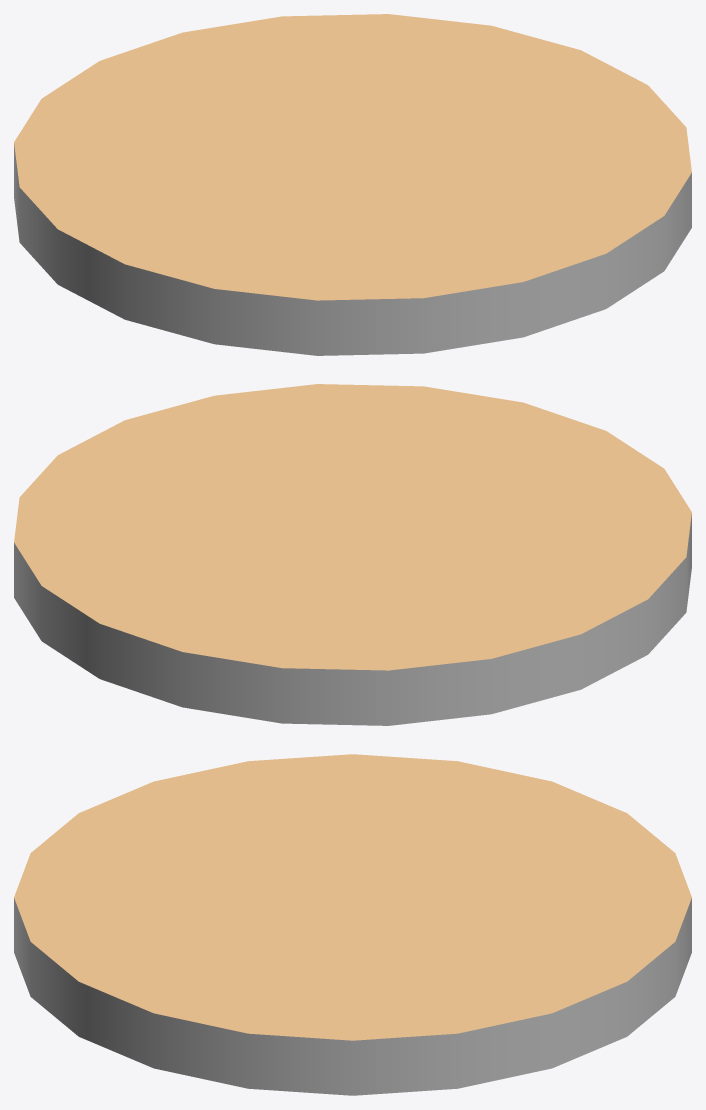
File: coin.glb
3 views of the same model, one above another, from view 1: azimuth 30°, elevation 25°; view 2: azimuth 150°, elevation 25°; view 3: azimuth 270°, elevation 25° (orthographic).
Parts seen in each view (by area): view 1: Cylinder001, Object001_Material #26_0; view 2: Cylinder001, Object001_Material #26_0; view 3: Cylinder001, Object001_Material #26_0.
Boxes of the visible parts, bbox=[...] form: Cylinder001: bbox=[14, 14, 691, 300]; Object001_Material #26_0: bbox=[14, 144, 691, 355]; Cylinder001: bbox=[14, 384, 691, 670]; Object001_Material #26_0: bbox=[14, 514, 691, 725]; Cylinder001: bbox=[14, 754, 691, 1040]; Object001_Material #26_0: bbox=[14, 898, 691, 1095].
Bounding box in the file's own units: 8.52 × 0.7643 × 8.52.
